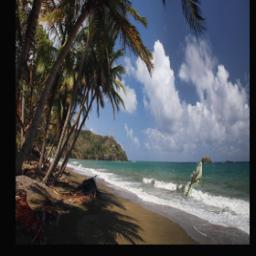Cuckoo: (186, 162, 203, 198)
